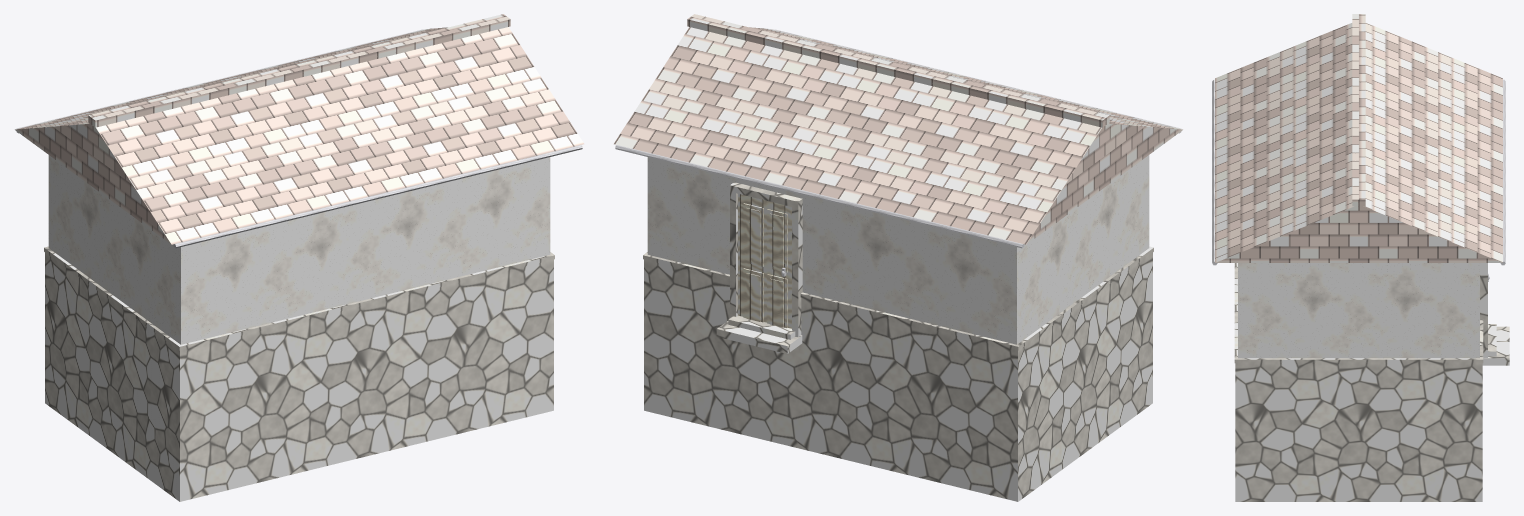
3 renders of one model, left to right at view 1: azimuth 30°, elevation 25°; view 2: azimuth 150°, elevation 25°; view 3: azimuth 270°, elevation 25°, orthographic. The views are drawn at different scales.
Parts seen in each view (by area): view 1: b1088806806; view 2: b1088806806; view 3: b1088806806.
Boxes of the visible parts, x1,y1,x2,y2 form: b1088806806: [15, 14, 583, 501]; b1088806806: [614, 14, 1182, 501]; b1088806806: [1212, 14, 1509, 501].
Size of the model in its own units: 6.68 by 5.22 by 4.52.
11 materials, 11 textured.
